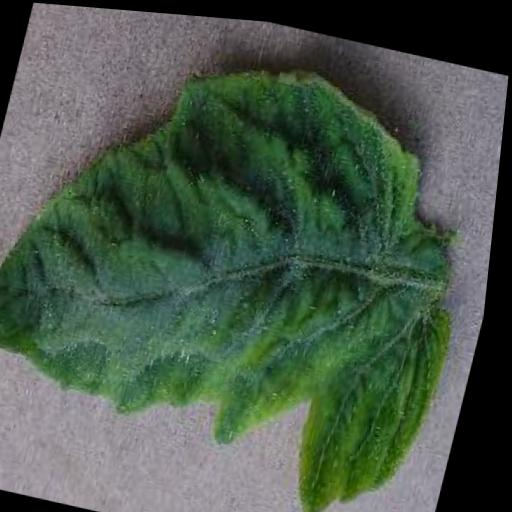Yellow Leaf Curl Virus: (0, 8, 507, 512)
